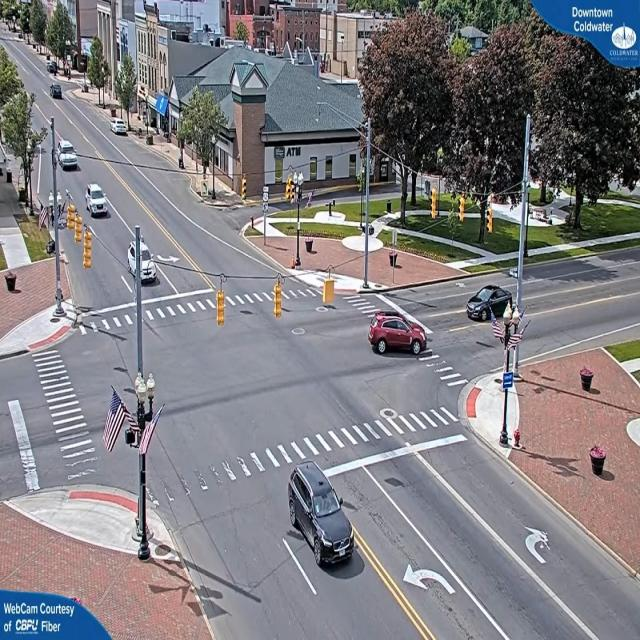car: (284, 466, 354, 572), (369, 309, 429, 356), (466, 283, 518, 325), (126, 231, 157, 281), (85, 184, 109, 218), (58, 140, 78, 170), (112, 121, 130, 138), (51, 85, 65, 100)
